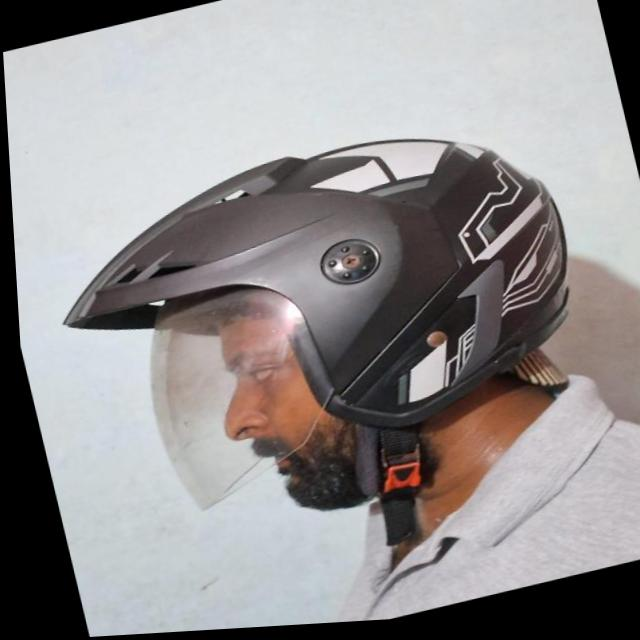helmet: (29, 101, 623, 610)
